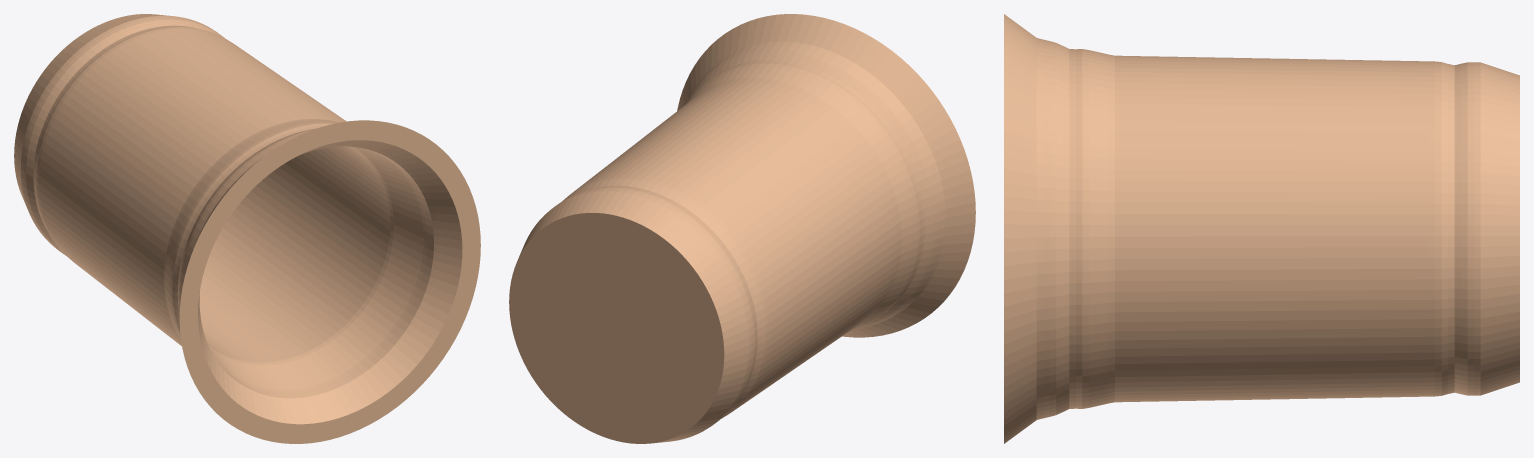
The model's file is Pot_03_Tall_Utensil_Crock.glb.
The picture shows the model from 3 angles, left to right: view 1: azimuth 30°, elevation 25°; view 2: azimuth 150°, elevation 25°; view 3: azimuth 270°, elevation 25°; orthographic projection. The views are drawn at different scales.
Parts seen in each view (by area): view 1: Pot_03_Tall_Utensil_Crock; view 2: Pot_03_Tall_Utensil_Crock; view 3: Pot_03_Tall_Utensil_Crock.
Boxes of the visible parts, x1=… form: Pot_03_Tall_Utensil_Crock: x1=14, y1=14, x2=480, y2=443; Pot_03_Tall_Utensil_Crock: x1=509, y1=14, x2=975, y2=443; Pot_03_Tall_Utensil_Crock: x1=1004, y1=14, x2=1519, y2=443.
Size of the model in its own units: 0.196 by 0.196 by 0.235.
